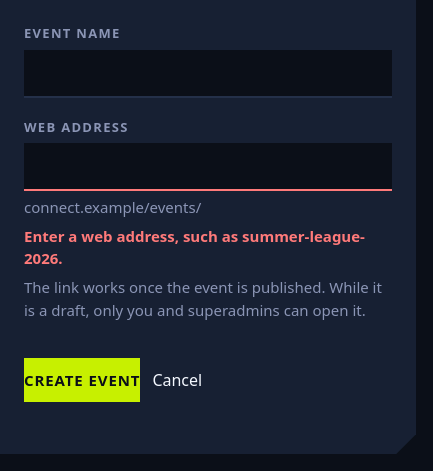
Test case: New event › explains an empty address without checking it
The width and height of the screenshot is (433, 471).
Step 1. Type "Harbour" into the field labelled "Event name" → (208, 74), box [24,50,392,98]
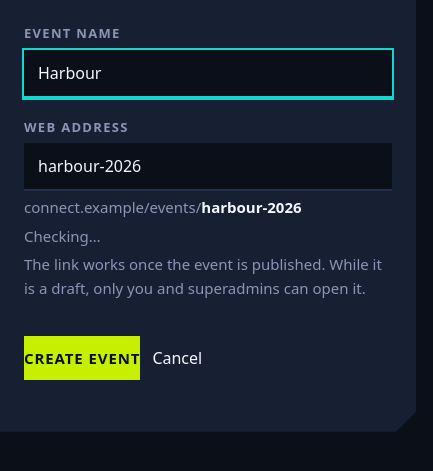
Step 2. Clear the field labelled "Web address" → (208, 167), box [24,143,392,191]
Wait 1000 ms
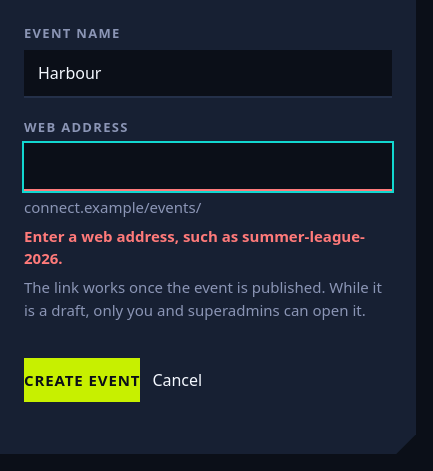
Check: the text "Enter a web address, such as summer-league-2026." is shown, box [24,225,392,270]
